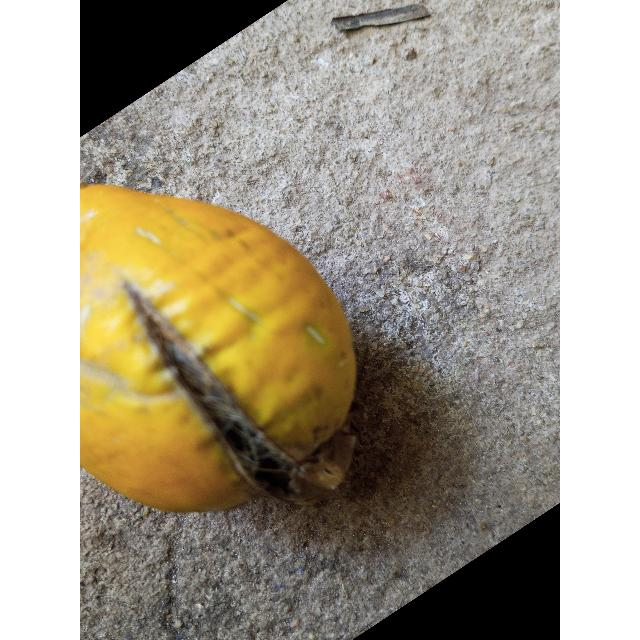damaged: (80, 183, 356, 512)
